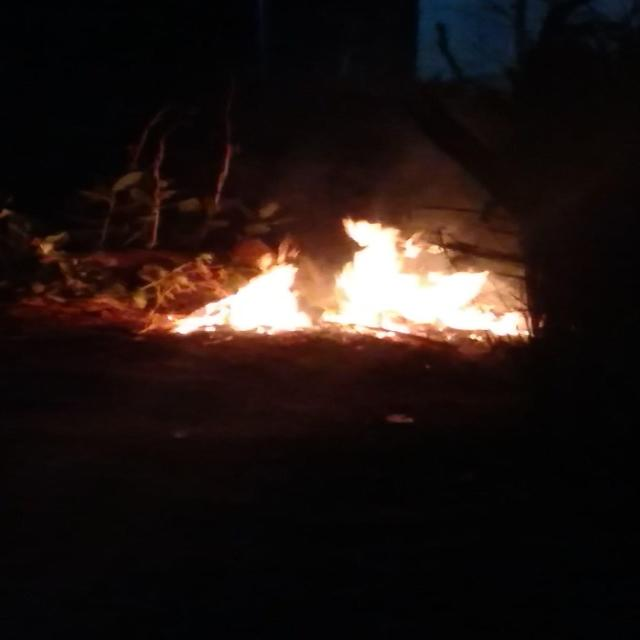fire: (328, 220, 542, 345), (158, 262, 318, 341)
